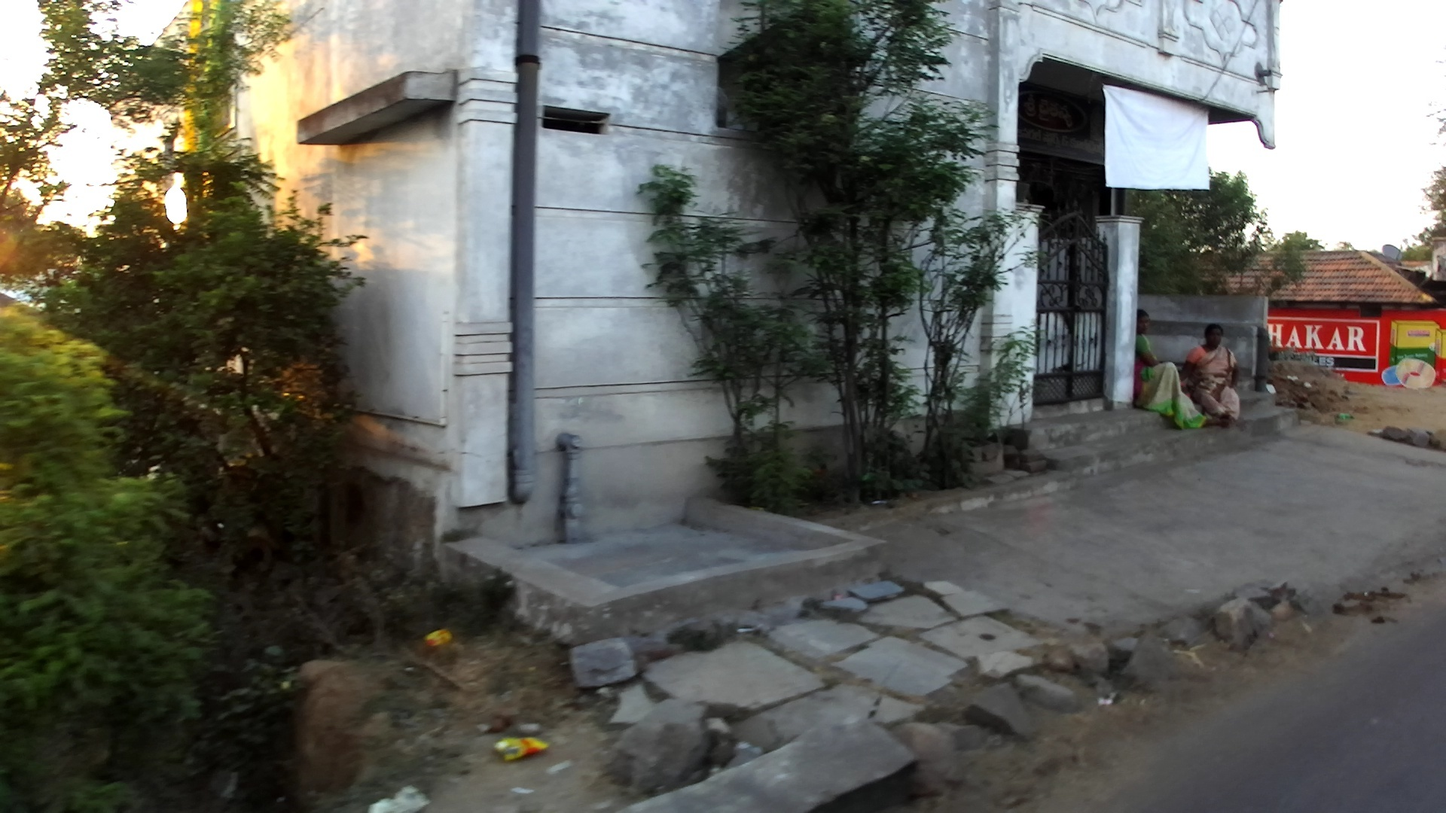person: (1133, 309, 1222, 428), (1179, 323, 1241, 425)
